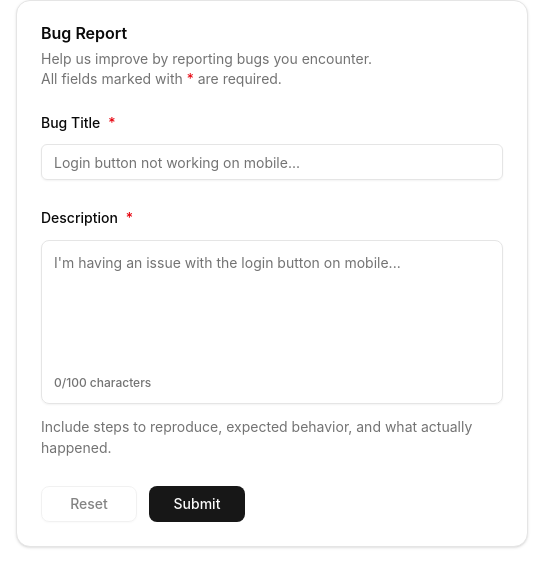
Test: BugReportForm › form display › clears fields when Reset button is clicked
In the field labelled "Bug Title *": (272, 162) [41, 144, 503, 180], type "My bug title"
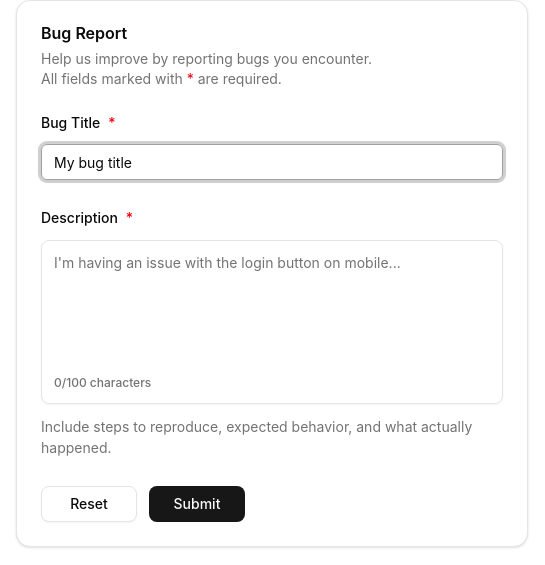
In the text box labelled "Description *": (272, 304) [42, 240, 502, 368], type "Some description text here"
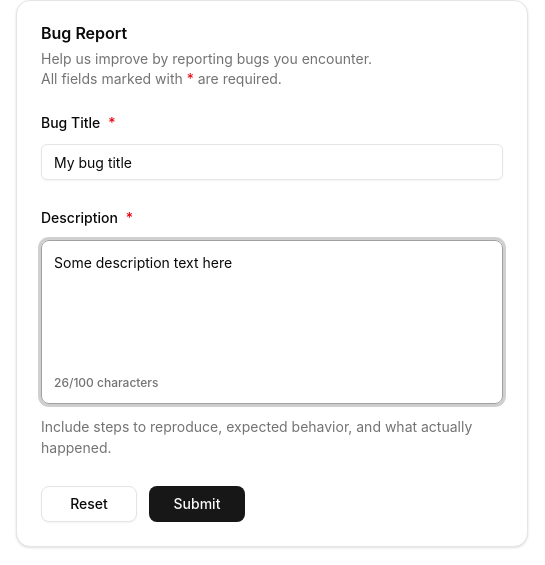
Click the button "Reset": (89, 504) [41, 486, 137, 522]
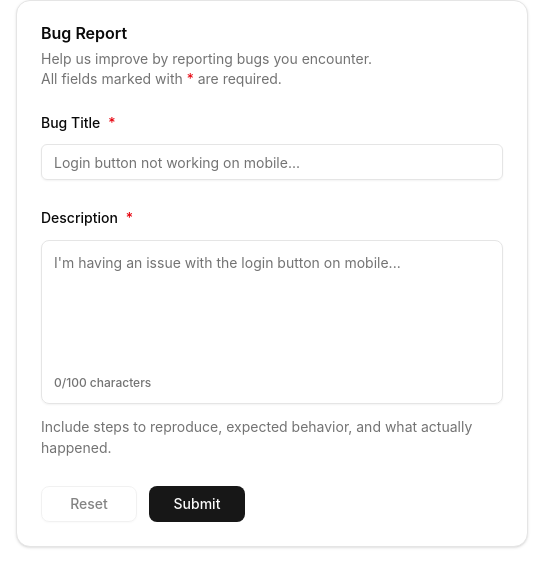
Expected: the field labelled "Bug Title *" is empty, [41, 144, 503, 180]
Expected: the text box labelled "Description *" is empty, [42, 240, 502, 368]
